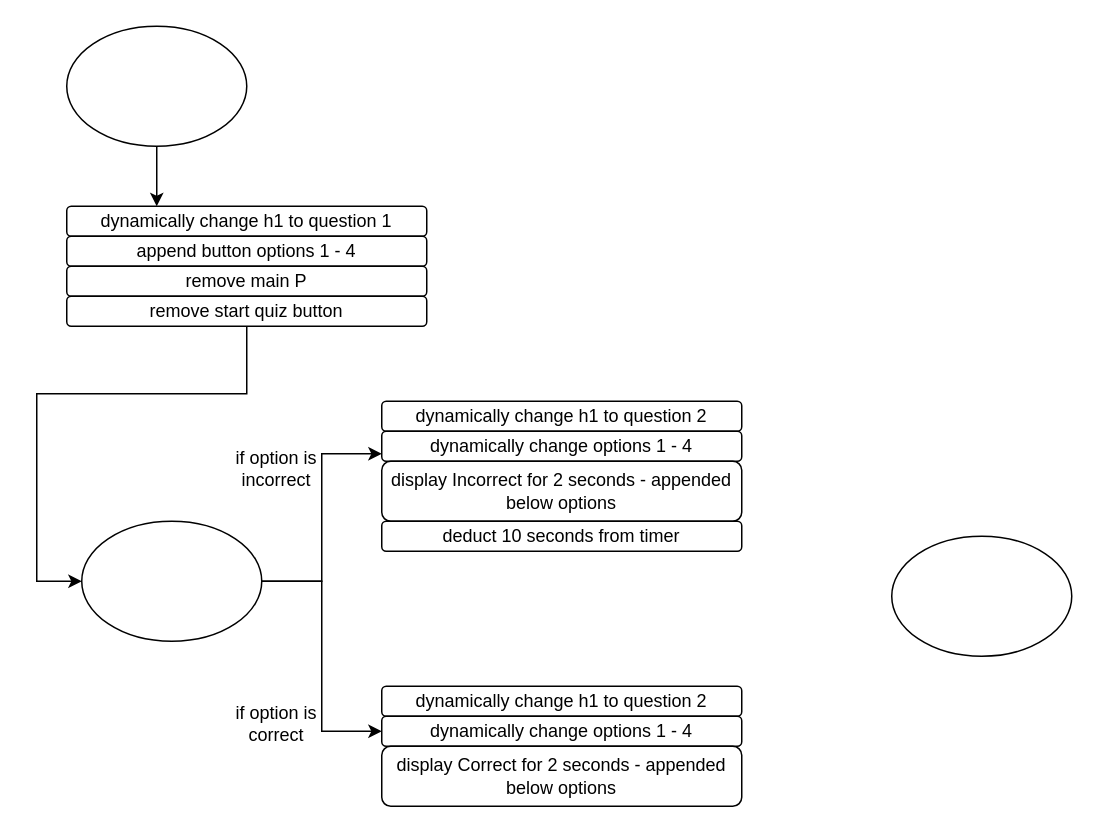
This 1098x833 diagram has some shape labels left out. The centre of each missing label's shape, as x and y in pixels:
Q1 : Option buttons on click events: (171,580)
Q2 : Option buttons on click events: (981,595)
Start Quiz Button on click event: (156,85)
